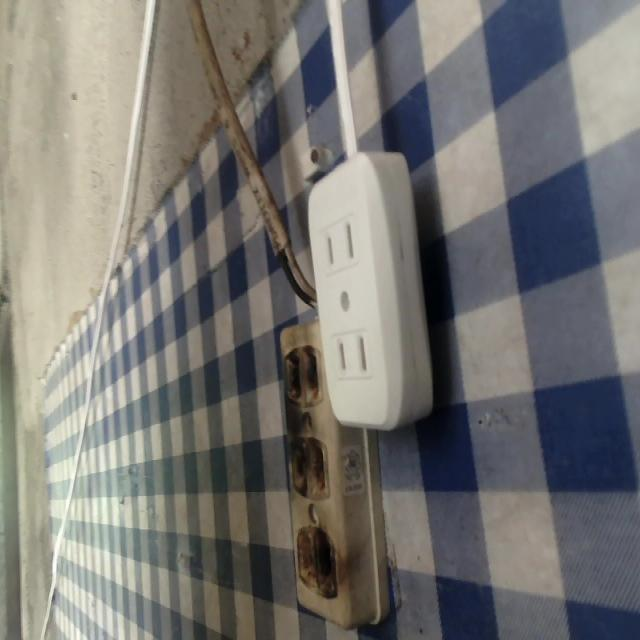-: (289, 522, 347, 602), (285, 436, 335, 504), (281, 343, 323, 405)
